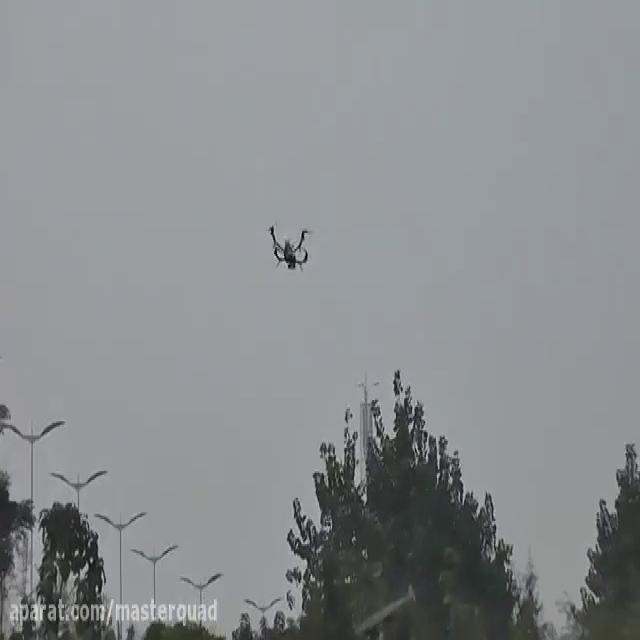drone: (264, 217, 313, 274)
